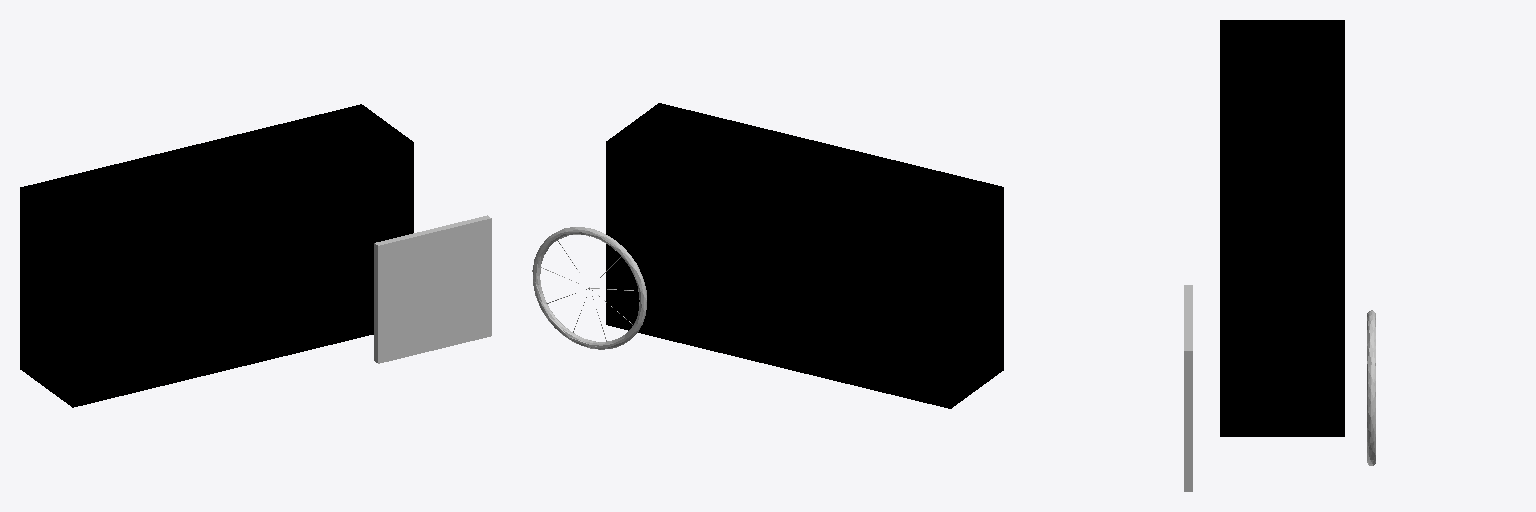
The robot description file, URDF, robot "tricycle":
<robot name="tricycle">
  <material name="grey">
    <color rgba="0.8 0.8 0.8 1"/>
  </material>
  <material name="white">
    <color rgba="1 1 1 1 "/>
  </material>
  <material name="black">
    <color rgba="0 0 0 1 "/>
  </material>

  <!-- Base link -->
  <link name="base_link">
    <inertial>
      <mass value="21.81947805717533"/>
      <origin rpy="0  0  0" xyz="0  0  0"/>
      <inertia ixx="5.886482099704385" ixy="0.05246604407007407"
               ixz="-0.14605334861846847" iyy="9.145464405182723"
               iyz="2.3093169469685275" izz="3.8627096944427937"/>
    </inertial>
    <collision name="bike_collision">
      <origin rpy="0  0  0" xyz="0  0  0"/>
      <geometry>
        <mesh
            filename="package://simulation/tricycle/meshes/collisions/bike.stl"
            scale="0.001 0.001 0.001"/>
      </geometry>
    </collision>
    <visual name="bike_visual">
      <origin rpy="0  0  0" xyz="0  0  0"/>
      <geometry>
        <mesh filename="package://simulation/tricycle/meshes/visuals/bike.stl"
              scale="0.001 0.001 0.001"/>
      </geometry>
      <material name="black"/>
    </visual>
  </link>

  <link name="left_wheel">
    <inertial>
      <mass value="13.34016392909787"/>
      <origin rpy="0  0  0" xyz="0     0.046  0"/>
      <inertia ixx="2.171169531427472" ixy="-4.661713033463371"
               ixz="-0.21322209220250452" iyy="14.34232616188963"
               iyz="-0.608246286975269" izz="15.441547158388817"/>

    </inertial>
    <collision name="left_wheel_collision">
      <origin rpy="0 0 0" xyz="0    0.046  0"/>
      <geometry>
        <mesh
            filename="package://simulation/tricycle/meshes/visuals/left_wheel.stl"
            scale="0.001 0.001 0.001"/>
      </geometry>
    </collision>
    <visual name="left_wheel_visual">
      <origin rpy="0 0 0" xyz="0 0.046  0"/>
      <geometry>
        <mesh
            filename="package://simulation/tricycle/meshes/visuals/left_wheel.stl"
            scale="0.001 0.001 0.001"/>
      </geometry>
      <material name="grey"/>
    </visual>
  </link>
  <joint name="joint_wheel_left" type="continuous">
    <parent link="front_part"/>
    <child link="left_wheel"/>
    <origin rpy="0  0  0" xyz="0.052   0.304   0.0345"/>
    <axis xyz="0 1  0"/>
    <limit effort="1000.0" velocity="10.0"/>
  </joint>
  <transmission name="trans_wheel_left">
    <type>transmission_interface/SimpleTransmission</type>
    <actuator name="$left_wheel_motor">
      <mechanicalReduction>1</mechanicalReduction>
    </actuator>
    <joint name="joint_wheel_left">
      <hardwareInterface>hardware_interface/VelocityJointInterface
      </hardwareInterface>
    </joint>
  </transmission>
  <gazebo reference="left_wheel">
    <mu1 value="20.0"/>
    <mu2 value="10.0"/>
    <kp value="10000000.0"/>
    <kd value="1.0"/>
    <material>Gazebo/Grey</material>
  </gazebo>

  <link name="right_wheel">
    <inertial>
      <mass value="13.34016392909787"/>
      <origin rpy="0  0  0" xyz="0    -0.004  0"/>
      <inertia ixx="2.097317024732184" ixy="4.55515786054409"
               ixz="0.2083483651538148" iyy="14.342326161889634"
               iyz="-0.6082462869756708" izz="15.367694651693467"/>
    </inertial>
    <collision name="right_wheel_collision">
      <origin rpy="0 0 0" xyz="0    -0.004 0"/>
      <geometry>
        <mesh
            filename="package://simulation/tricycle/meshes/visuals/right_wheel.stl"
            scale="0.001 0.001 0.001"/>
      </geometry>
    </collision>
    <visual name="right_wheel_visual">
      <origin rpy="0 0 0" xyz="0    -0.004 0"/>
      <geometry>
        <mesh
            filename="package://simulation/tricycle/meshes/visuals/right_wheel.stl"
            scale="0.001 0.001 0.001"/>
      </geometry>
      <material name="grey"/>
    </visual>
  </link>
  <joint name="joint_wheel_right" type="continuous">
    <parent link="front_part"/>
    <child link="right_wheel"/>
    <origin rpy="0  0  0" xyz="0.052  -0.338   0.0345"/>
    <axis xyz="0 1 0"/>
    <limit effort="1000.0" velocity="10.0"/>
  </joint>
  <transmission name="trans_wheel_right">
    <type>transmission_interface/SimpleTransmission</type>
    <actuator name="$right_wheel_motor">
      <mechanicalReduction>1</mechanicalReduction>
    </actuator>
    <joint name="joint_wheel_right">
      <hardwareInterface>hardware_interface/VelocityJointInterface
      </hardwareInterface>
    </joint>
  </transmission>
  <gazebo reference="right_wheel">
    <mu1 value="20.0"/>
    <mu2 value="10.0"/>
    <kp value="10000000.0"/>
    <kd value="1.0"/>
    <material>Gazebo/Grey</material>
  </gazebo>

  <link name="front_part">
    <inertial>
      <mass value="16.810672465638184"/>
      <origin rpy="0  0  0" xyz="-0.23003 -0.01038  0.20527"/>
      <inertia ixx="3.2092296528945967" ixy="0.18113615628275678"
               ixz="0.006723073533121614" iyy="14.66296026711583"
               iyz="-1.241970673631743" izz="13.91291969418297"/>
    </inertial>
    <collision name="front_part_collision">
      <origin rpy="0  0  0" xyz="-0.23003 -0.01038  0.20527"/>
      <geometry>
        <mesh
            filename="package://simulation/tricycle/meshes/collisions/front_part.stl"
            scale="0.001 0.001 0.001"/>
      </geometry>
    </collision>
    <visual name="front_part_visual">
      <origin rpy="0 0 0" xyz="-0.23003 -0.01038 0.20527"/>
      <geometry>
        <mesh
            filename="package://simulation/tricycle/meshes/visuals/front_part.stl"
            scale="0.001 0.001 0.001"/>
      </geometry>
      <material name="black"/>
    </visual>
  </link>
  <joint name="joint_front" type="revolute">
    <parent link="base_link"/>
    <child link="front_part"/>
    <origin rpy="0  0  0" xyz="0.94642  0       0.01116"/>
    <axis xyz="0 0 1"/>
    <limit effort="1000" lower="-0.78" upper="0.78"
           velocity="0.5"/>
  </joint>
  <transmission name="trans_front">
    <type>transmission_interface/SimpleTransmission</type>
    <actuator name="$front_motor">
      <mechanicalReduction>1</mechanicalReduction>
    </actuator>
    <joint name="joint_front">
      <hardwareInterface>hardware_interface/VelocityJointInterface
      </hardwareInterface>
    </joint>
  </transmission>

  <link name="wheel_back">
    <inertial>
      <mass value="13.340163929098493"/>
      <origin rpy="0  0  0" xyz="0    -0.069  0"/>
      <inertia ixx="0.5419188938328757" ixy="-0.025425846119324413"
               ixz="0.0023401868697195947" iyy="4.894303401629517"
               iyz="0.35393127318782075" izz="4.354763468464214"/>
    </inertial>
    <collision name="wheel_back_collision">
      <origin rpy="0 0 0" xyz="0    -0.069 0"/>
      <geometry>
        <mesh
            filename="package://simulation/tricycle/meshes/visuals/wheel_back.stl"
            scale="0.001 0.001 0.001"/>
      </geometry>
    </collision>
    <visual name="wheel_back_visual">
      <origin rpy="0 0 0" xyz="0    -0.069 0"/>
      <geometry>
        <mesh
            filename="package://simulation/tricycle/meshes/visuals/wheel_back.stl"
            scale="0.001 0.001 0.001"/>
      </geometry>
      <material name="grey"/>
    </visual>
  </link>
  <joint name="joint_wheel_back" type="continuous">
    <parent link="base_link"/>
    <child link="wheel_back"/>
    <origin rpy="0  0  0" xyz="-0.53689  0.06544  0.04941"/>
    <axis xyz="0 1  0"/>
    <limit effort="1000.0" velocity="10.0"/>
  </joint>
  <transmission name="trans_wheel_back">
    <type>transmission_interface/SimpleTransmission</type>
    <actuator name="back_wheel_motor">
      <mechanicalReduction>1</mechanicalReduction>
    </actuator>
    <joint name="joint_wheel_back">
      <hardwareInterface>hardware_interface/VelocityJointInterface
      </hardwareInterface>
    </joint>
  </transmission>
  <gazebo reference="wheel_back">
    <mu1 value="20.0"/>
    <mu2 value="10.0"/>
    <kp value="10000000.0"/>
    <kd value="1.0"/>
    <material>Gazebo/Grey</material>
  </gazebo>
  <gazebo>
    <plugin name="gazebo_ros_control" filename="libgazebo_ros_control.so">
      <robotNamespace>/</robotNamespace>
      <legacyModeNS>true</legacyModeNS>
    </plugin>
  </gazebo>
</robot>

--- What the picture shows (computed from the rendered views, not written in the file) ---
Views: 3 orthographic renders of the robot side by side, from view 1: azimuth 30°, elevation 25°; view 2: azimuth 150°, elevation 25°; view 3: azimuth 270°, elevation 25°.
Model tricycle with 5 links and 4 joints (1 revolute, 3 continuous), rooted at base_link, posed all joints at 0.
Links seen in each view (by area): view 1: base_link, right_wheel; view 2: base_link, left_wheel; view 3: base_link, right_wheel, left_wheel.
Link boxes in pixels (box(x1,y1,x2,y2)): base_link: box(20, 104, 413, 407); right_wheel: box(374, 215, 491, 363); base_link: box(606, 103, 1003, 408); left_wheel: box(532, 227, 646, 349); base_link: box(1220, 20, 1344, 436); right_wheel: box(1184, 285, 1192, 491); left_wheel: box(1367, 310, 1375, 465).
Bounding box of the posed robot: 2.1 × 0.7277 × 0.983 m (x, y, z).
3 mesh visuals loaded from 5 distinct referenced files (3 binary STL); not drawn: 2 (reference not matched to a file when rendering).